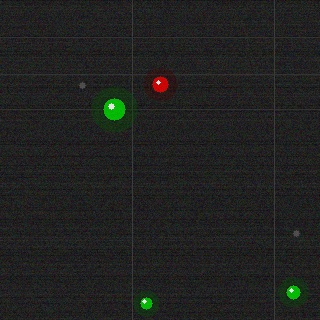green_normal: (101, 96, 127, 122), (284, 283, 302, 301), (138, 295, 154, 311)
red_fault: (150, 74, 170, 94)
